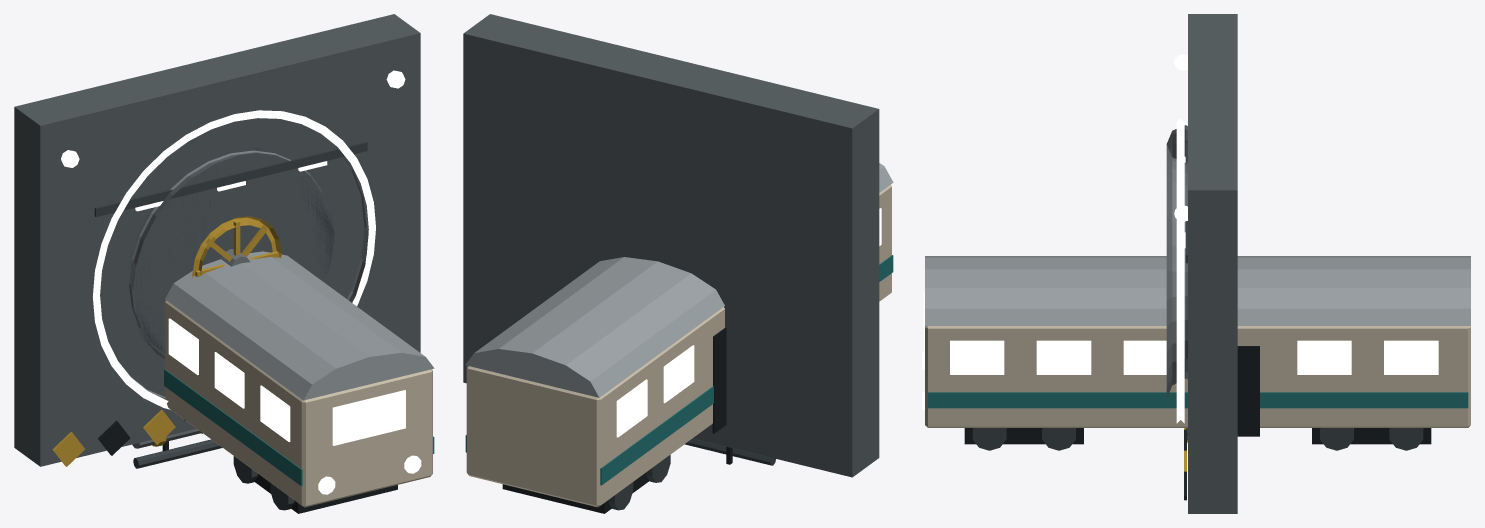
File: dress_tunnel.glb
3 renders of one model, left to right at view 1: azimuth 30°, elevation 25°; view 2: azimuth 150°, elevation 25°; view 3: azimuth 270°, elevation 25°, orthographic. The views are drawn at different scales.
Parts seen in each view (by area): view 1: lm_hatch_m, lm_train_m, lm_clock_m, x_pipe_t_m; view 2: lm_hatch_m, lm_train_m, x_pipe_t_m; view 3: lm_train_m, lm_hatch_m.
Part boxes in pixels (x1,y1,x2,y2): lm_hatch_m: (14, 14, 420, 466); lm_train_m: (164, 251, 434, 513); lm_clock_m: (94, 141, 367, 217); x_pipe_t_m: (132, 429, 222, 468); lm_hatch_m: (463, 14, 879, 477); lm_train_m: (465, 163, 893, 513); x_pipe_t_m: (685, 438, 775, 465); lm_train_m: (922, 256, 1470, 450); lm_hatch_m: (1166, 14, 1237, 513).
Size of the model in its own units: 8.4 by 7.85 by 11.06.
